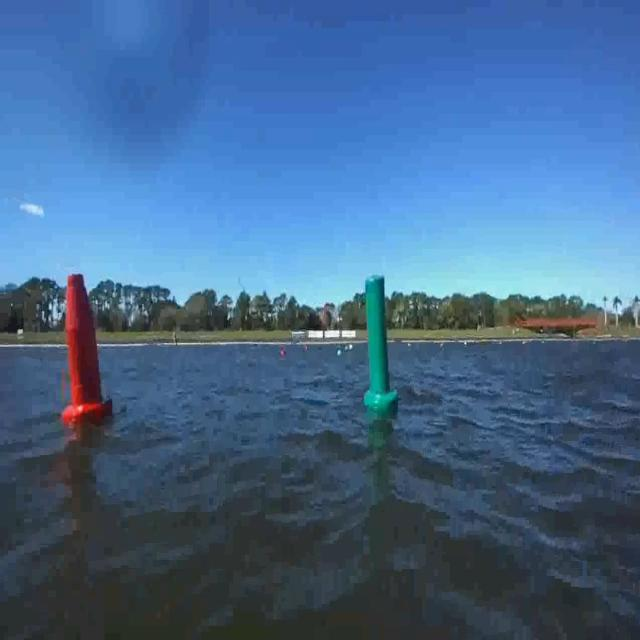green-column-buoy: (362, 272, 395, 411)
red-column-buoy: (63, 271, 114, 426)
